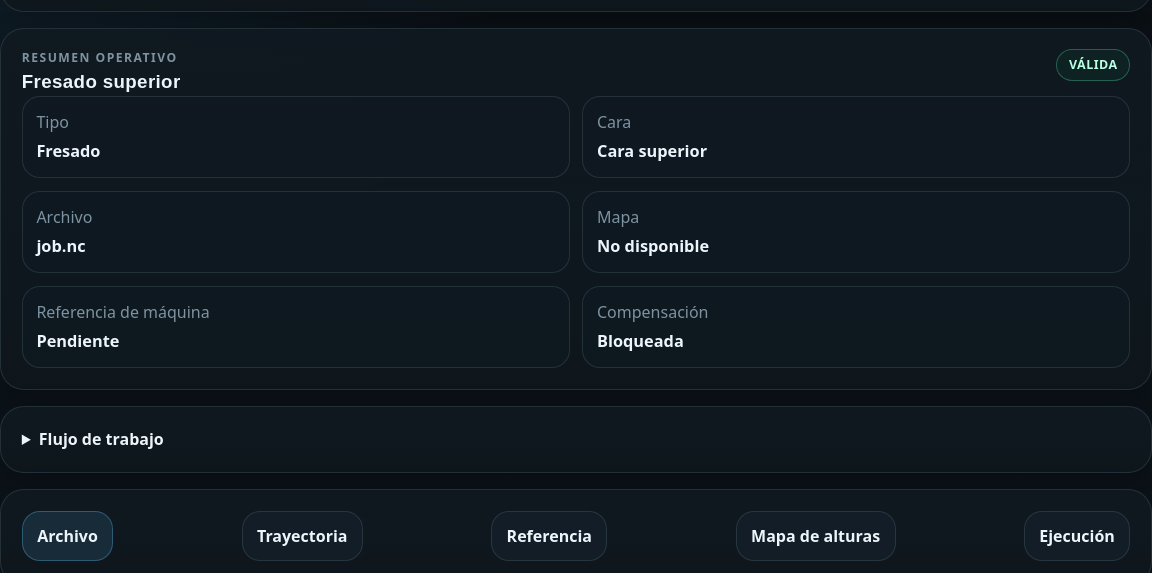
Test case: ProjectWorkspace › no persiste origen ni referencia Z si probe-confirm falla
Step 1. Click the button "Referencia" → x=549, y=536, box [491,511,607,561]
(page scrolled)
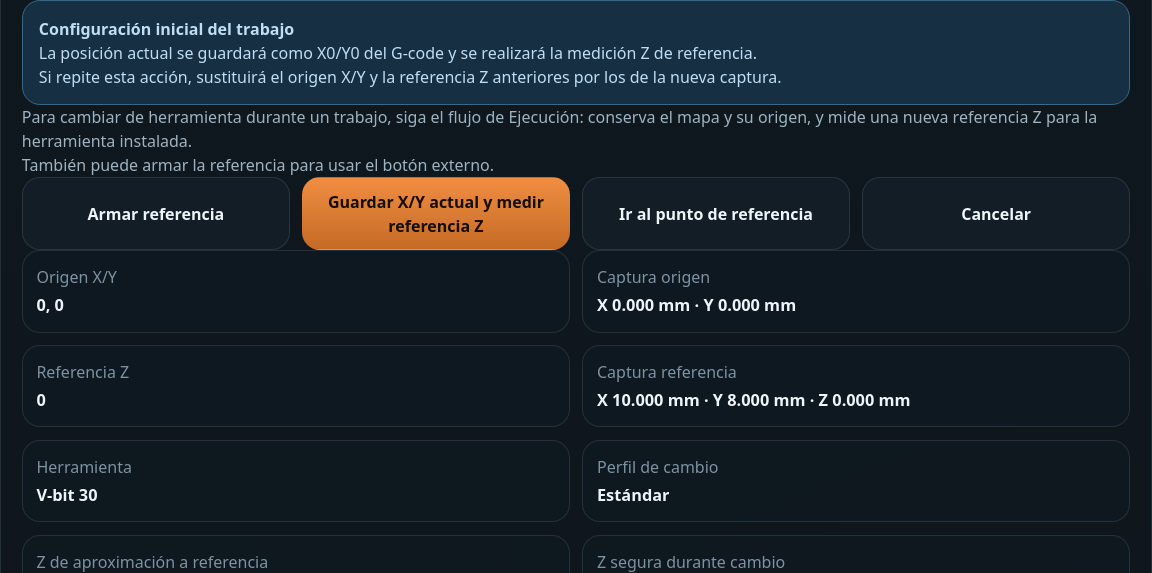
Step 2. Click the button "Guardar X/Y actual y medir referencia Z" → x=436, y=214, box [302,177,570,250]
(page scrolled)
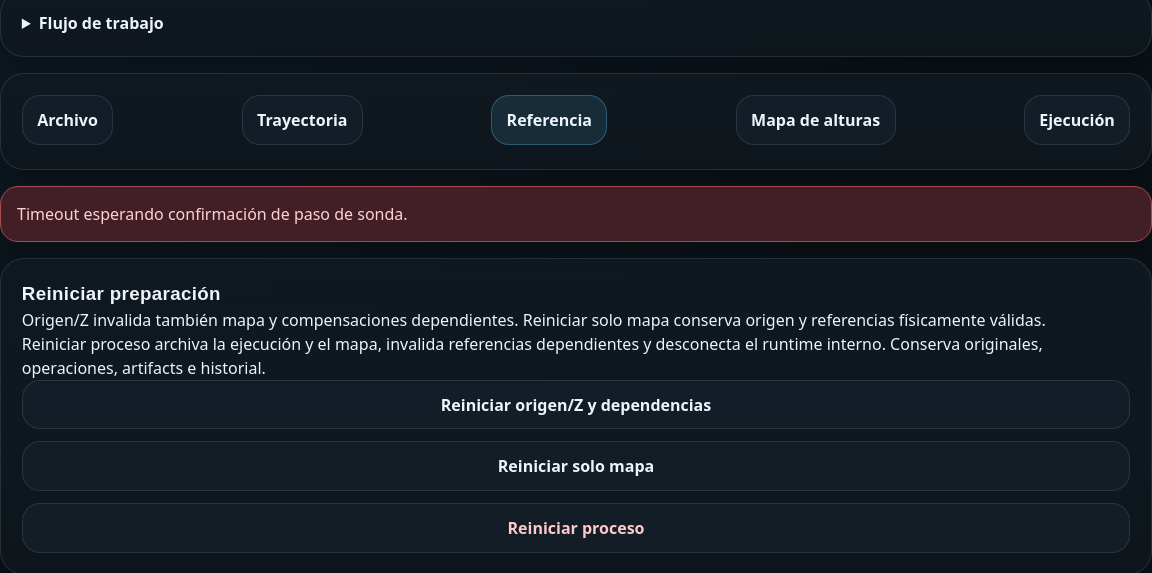
Now the text "Timeout esperando confirmación de paso de sonda." is shown, box [0,186,1151,242]
